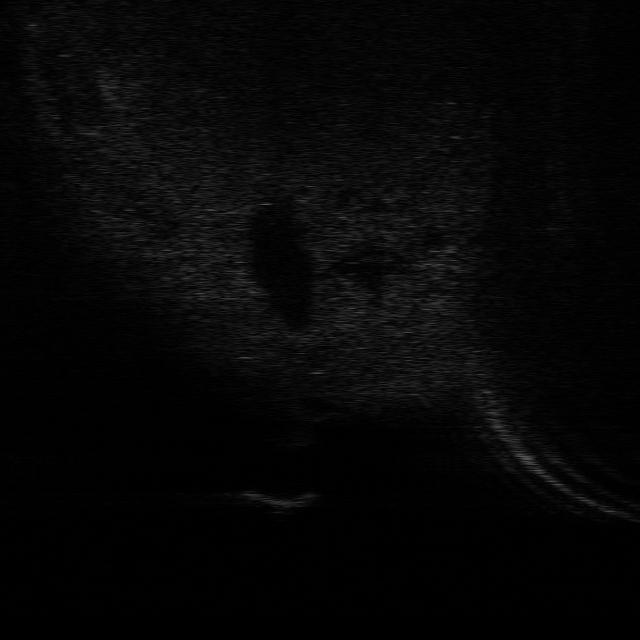cube: (231, 490, 319, 516)
